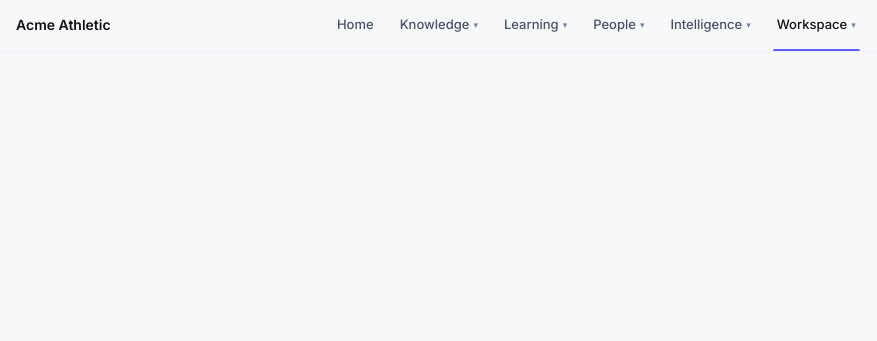
Scenario: GlobalNav › six primary words; hover reveals a domain's secondary droplist
Expected: the text "Studio" is not shown
Hover over the list item "Knowledge ▾": (439, 24) [400,16,478,32]
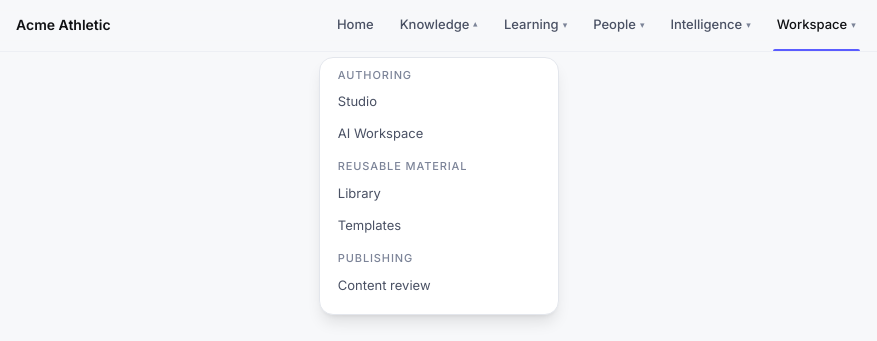
Expected: the link "Studio" is shown, [338,93,377,109]
Expected: the link "Library" is shown, [338,185,381,201]
Expected: the link "AI Workspace" is shown, [338,125,423,141]
Escape closes it again.
Press Escape in the list item "Knowledge", box [400,16,478,32]
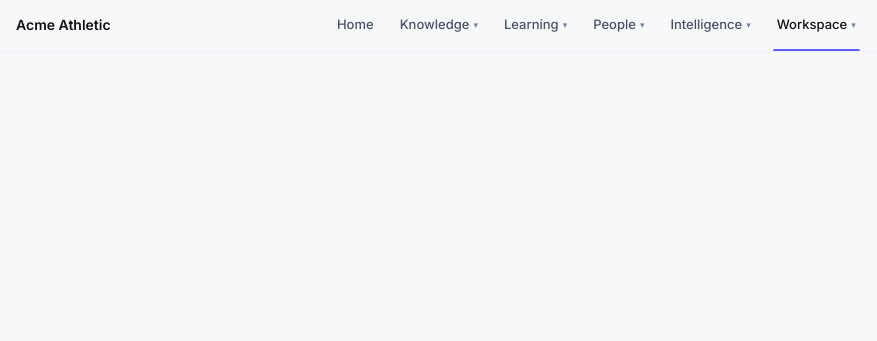
Expected: the link "Studio" is gone
